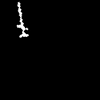double_crochet: (17, 2, 27, 36)
